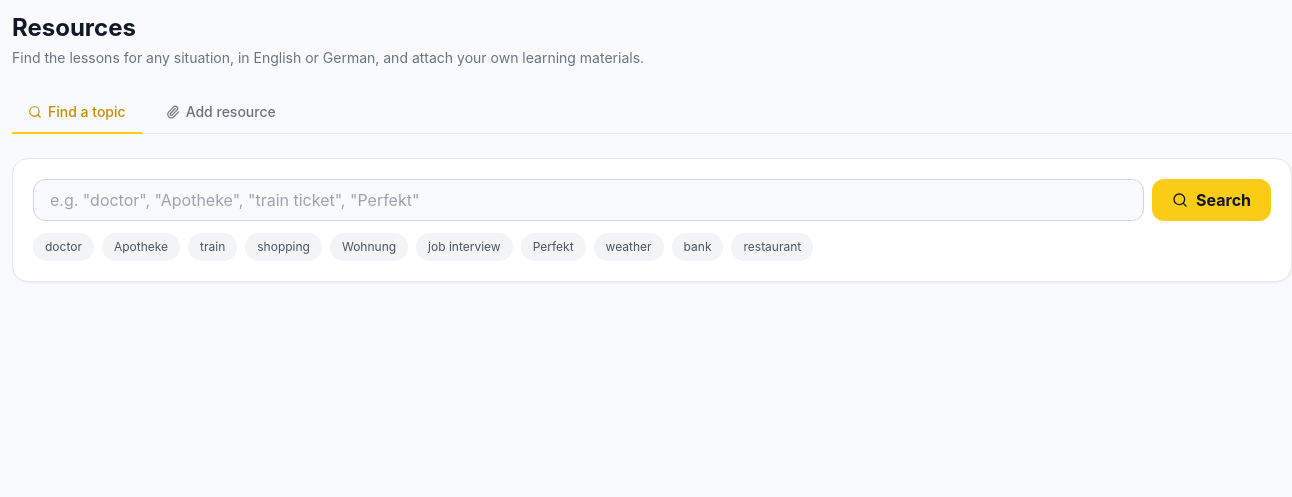
Test: searching a topic lists matching lessons with their words
The image size is (1292, 497).
Type "Apotheke" into the field named "Search topic" at (588, 200), box top-left (33, 179), bottom-right (1144, 221)
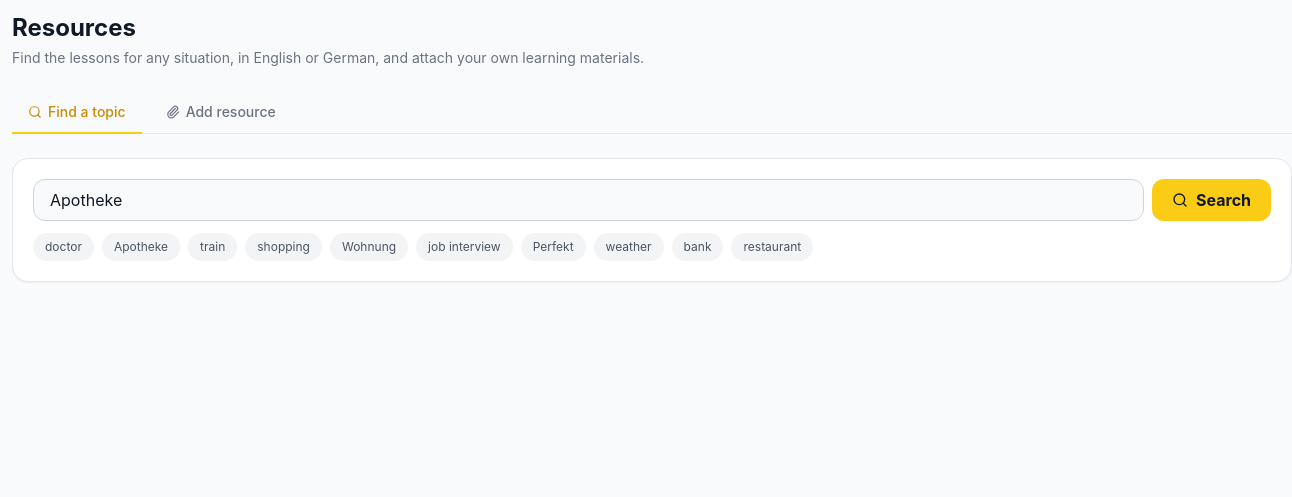
Click the button "Search" at (1212, 200), box top-left (1152, 179), bottom-right (1271, 221)
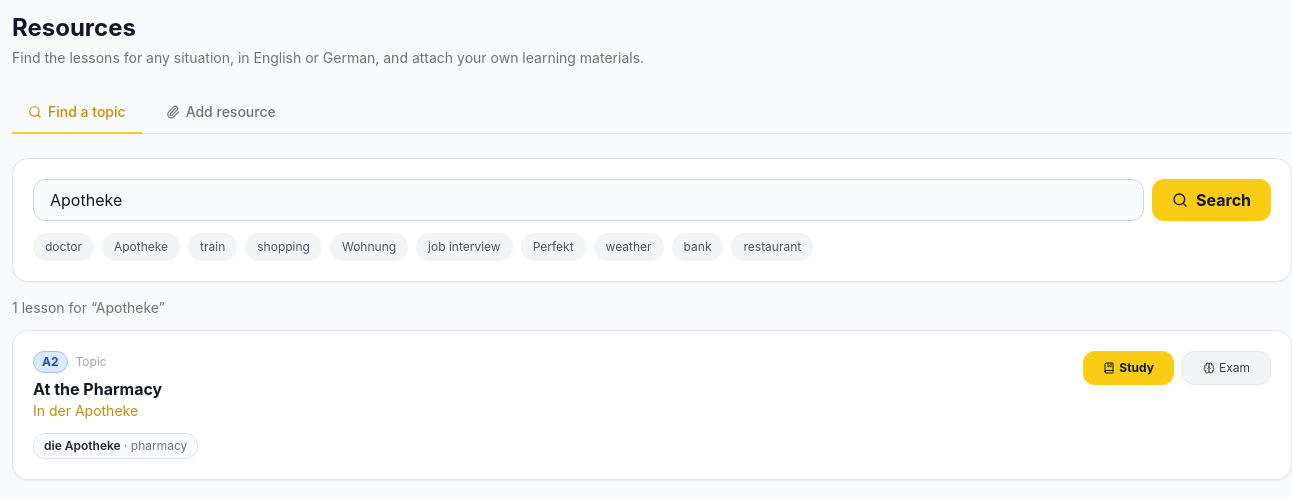
Result: the text "At the Pharmacy" is shown at top-left (33, 377), bottom-right (162, 401)
Result: the text "die Apotheke" is shown at top-left (44, 438), bottom-right (121, 453)
